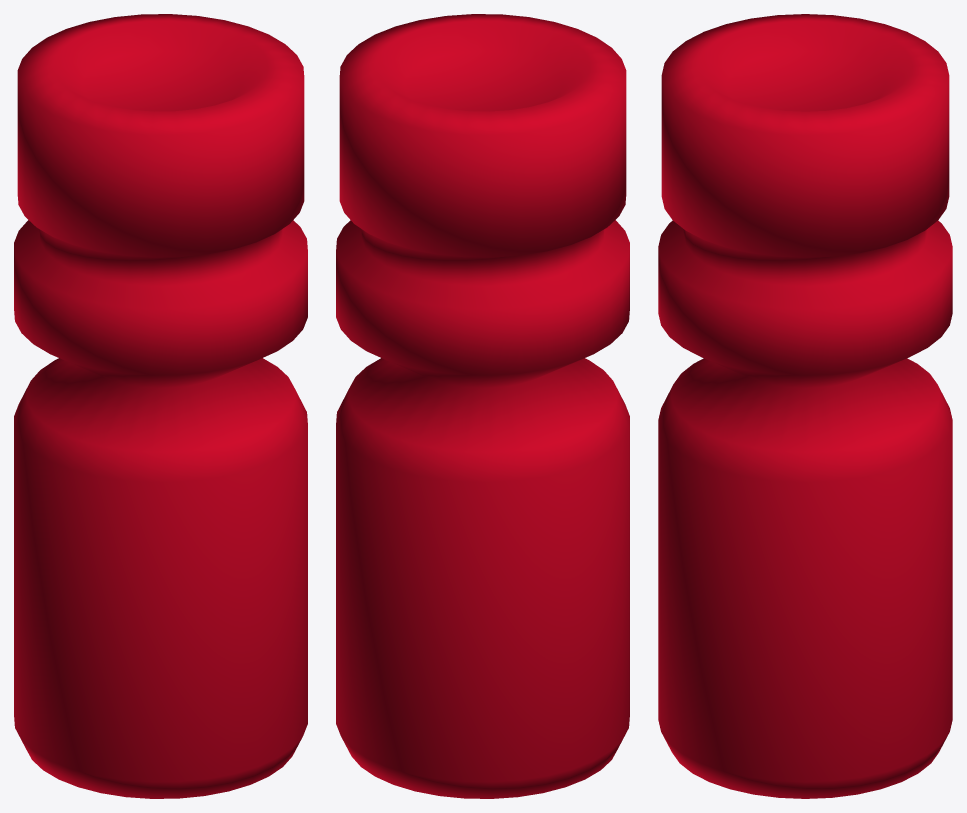
The model's file is turkish-queen.gltf.
3 views of the same model, side by side, from view 1: azimuth 30°, elevation 25°; view 2: azimuth 150°, elevation 25°; view 3: azimuth 270°, elevation 25° (orthographic).
Bounding box in the file's own units: 1.07 × 2.7 × 1.07.
